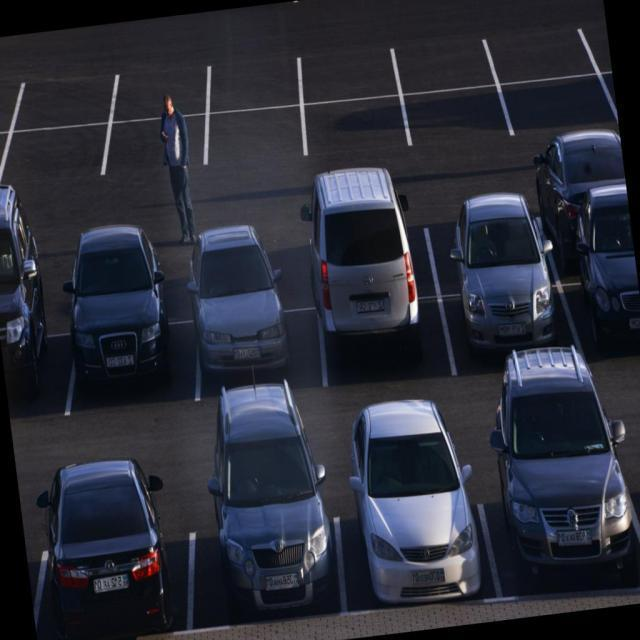space-empty: (318, 236, 439, 315), (208, 235, 321, 318), (429, 217, 543, 295), (90, 243, 195, 326), (8, 127, 104, 192), (108, 117, 200, 184), (115, 62, 207, 127), (19, 76, 114, 136), (207, 105, 300, 163), (305, 97, 405, 149), (512, 75, 612, 127), (404, 85, 502, 138), (0, 260, 78, 326), (205, 56, 295, 109), (498, 29, 587, 81), (402, 37, 488, 89), (301, 53, 388, 98)
space-occupied: (191, 477, 351, 640), (479, 461, 640, 617), (339, 472, 491, 627), (32, 516, 200, 640), (322, 293, 457, 391), (77, 309, 193, 414), (440, 287, 578, 375), (202, 303, 321, 394), (0, 321, 80, 409), (544, 212, 637, 285), (572, 279, 640, 363)
